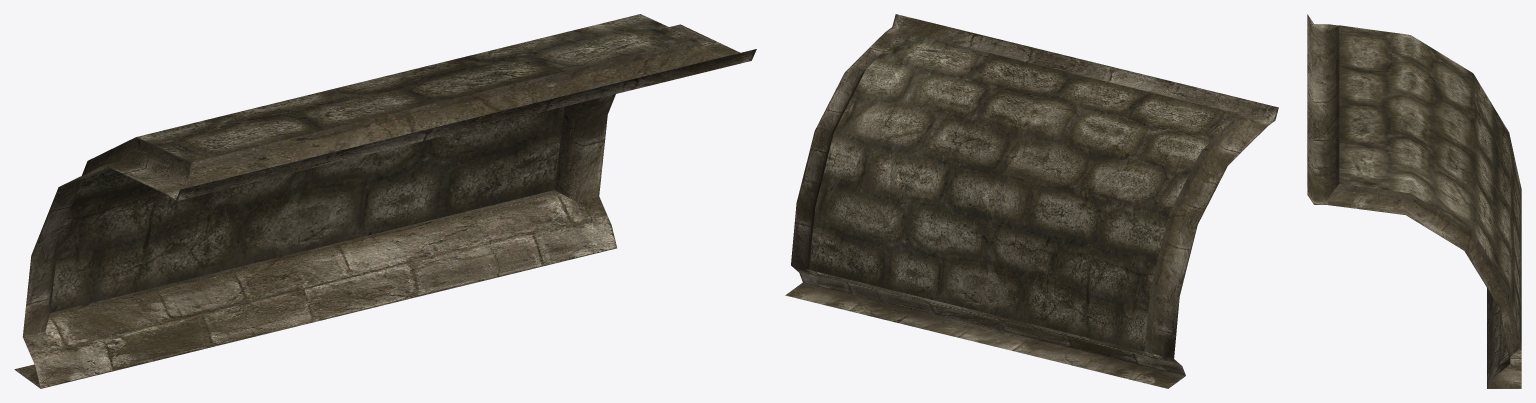
Rendered from concave_worn_amfp.dae.
3 views of the same model, side by side, from view 1: azimuth 30°, elevation 25°; view 2: azimuth 150°, elevation 25°; view 3: azimuth 270°, elevation 25° (orthographic). The views are drawn at different scales.
Parts seen in each view (by area): view 1: pCube1; view 2: pCube1; view 3: pCube1.
Boxes of the visible parts, x1,y1,x2,y2 form: pCube1: [14, 14, 756, 388]; pCube1: [785, 14, 1278, 388]; pCube1: [1307, 14, 1521, 388].
Bounding box in the file's own units: 4 × 2 × 2.
